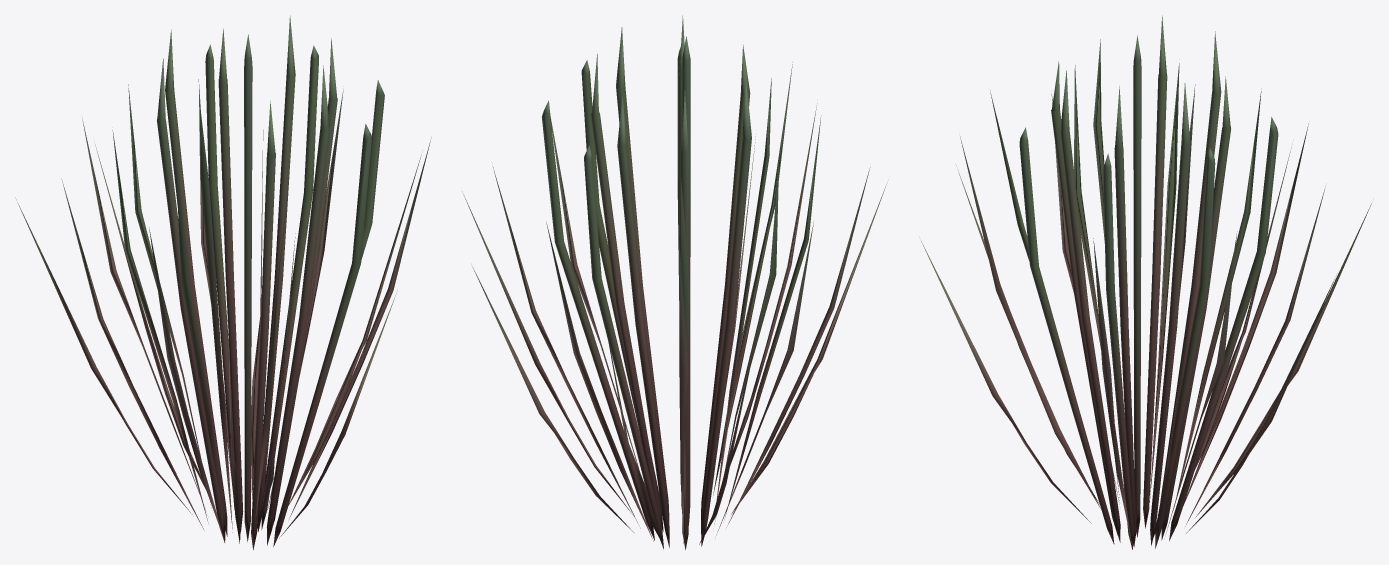
The model's file is trees-grasses-ornamental-grass_v4.glb.
The picture shows the model from 3 angles, left to right: view 1: azimuth 30°, elevation 25°; view 2: azimuth 150°, elevation 25°; view 3: azimuth 270°, elevation 25°; orthographic projection.
Parts seen in each view (by area): view 1: Ornamental Grass_v4; view 2: Ornamental Grass_v4; view 3: Ornamental Grass_v4.
Boxes of the visible parts, x1,y1,x2,y2 form: Ornamental Grass_v4: (15, 15, 431, 549); Ornamental Grass_v4: (462, 15, 887, 549); Ornamental Grass_v4: (921, 15, 1371, 549).
Size of the model in its own units: 0.4438 by 0.6 by 0.4924.
